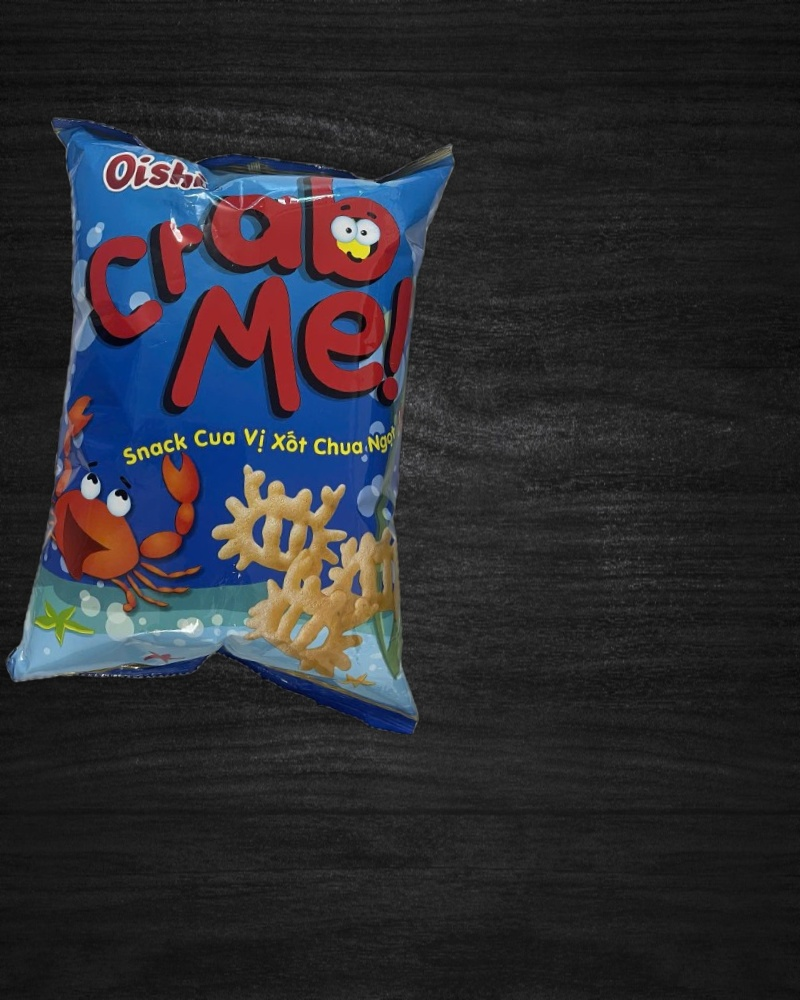Snack cua: (2, 109, 469, 730)
